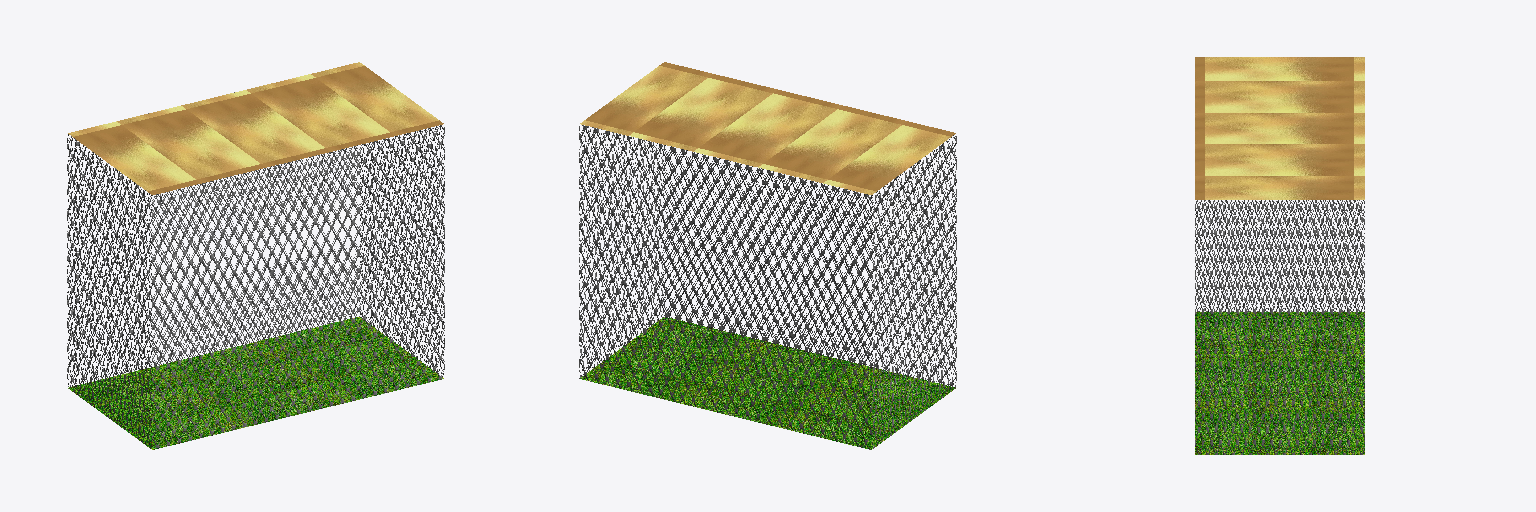
3 views of the same model, side by side, from view 1: azimuth 30°, elevation 25°; view 2: azimuth 150°, elevation 25°; view 3: azimuth 270°, elevation 25° (orthographic).
Visible parts, largest first — view 1: paredUno001, paredDos, Plane001, paredUno, paredTres, paredCuatro; view 2: paredUno001, paredUno, Plane001, paredDos, paredTres, paredCuatro; view 3: paredUno001, Plane001, paredCuatro, paredTres.
Part boxes in pixels (x1,y1,x2,y2): paredUno001: (68, 62, 443, 194); paredDos: (152, 125, 444, 448); Plane001: (68, 317, 443, 449); paredUno: (67, 92, 359, 386); paredTres: (67, 134, 151, 448); paredCuatro: (360, 126, 444, 376); paredUno001: (580, 62, 955, 194); paredUno: (579, 126, 871, 449); Plane001: (580, 317, 955, 449); paredDos: (664, 135, 956, 386); paredTres: (872, 136, 956, 448); paredCuatro: (579, 125, 663, 377); paredUno001: (1195, 57, 1364, 199); Plane001: (1195, 312, 1364, 454); paredCuatro: (1195, 200, 1364, 454); paredTres: (1195, 200, 1364, 311).
Size of the model in its own units: 130 by 108 by 65.5.
3 materials, 3 textured.